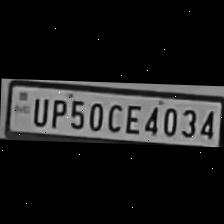0: (159, 102, 179, 136), (84, 98, 104, 130)
3: (177, 104, 196, 137)
4: (195, 104, 216, 138), (141, 101, 161, 134)
5: (66, 94, 86, 128)
C: (104, 99, 122, 131)
E: (121, 100, 141, 134)
P: (46, 93, 66, 126)
U: (28, 94, 48, 125)
